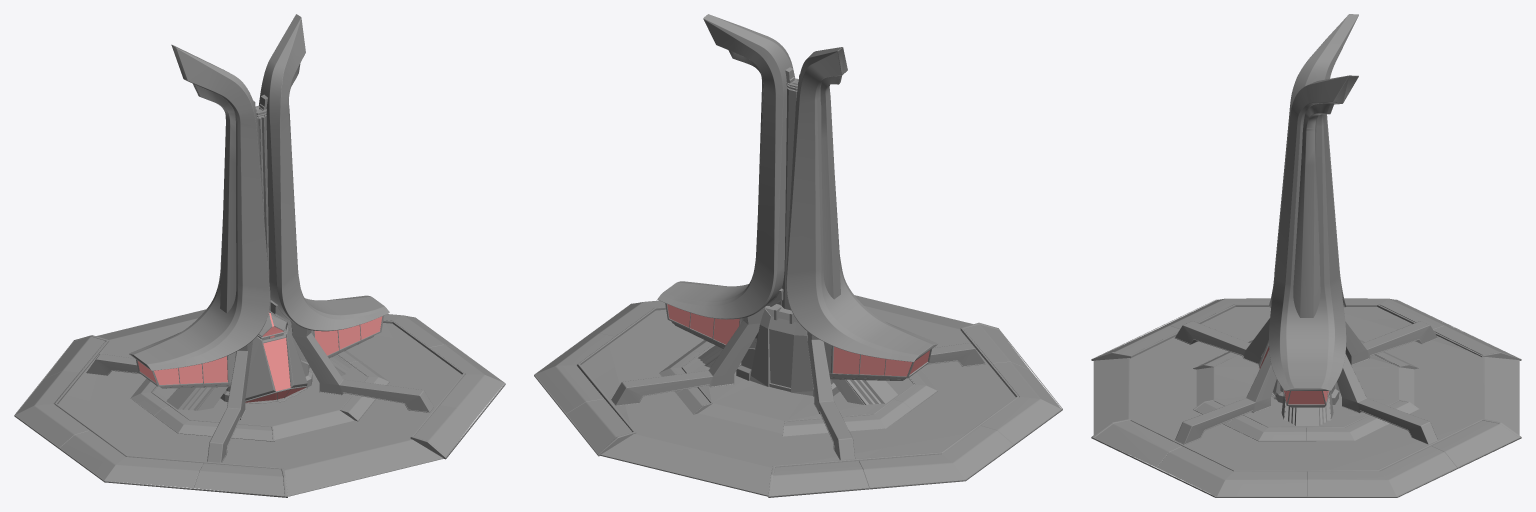
File: S_Envi_Umeda_kemosita_001b.gltf
3 renders of one model, left to right at view 1: azimuth 30°, elevation 25°; view 2: azimuth 150°, elevation 25°; view 3: azimuth 270°, elevation 25°, orthographic. The views are drawn at different scales.
Parts seen in each view (by area): view 1: S_Envi_Umeda_kemosita_001b; view 2: S_Envi_Umeda_kemosita_001b; view 3: S_Envi_Umeda_kemosita_001b.
Boxes of the visible parts, <box> form: S_Envi_Umeda_kemosita_001b: <box>14,14,505,497</box>; S_Envi_Umeda_kemosita_001b: <box>534,14,1062,497</box>; S_Envi_Umeda_kemosita_001b: <box>1091,14,1521,497</box>.
Size of the model in its own units: 515 by 433 by 475.
